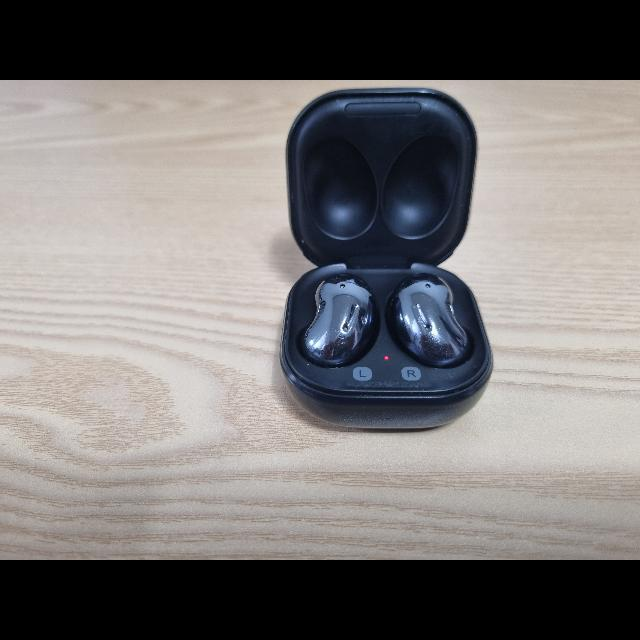buds_live: (280, 86, 496, 432)
